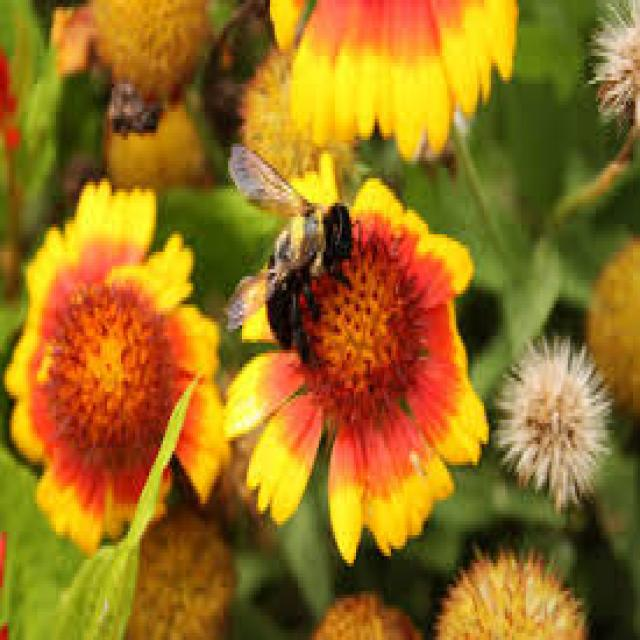Bees: (225, 144, 362, 362)
